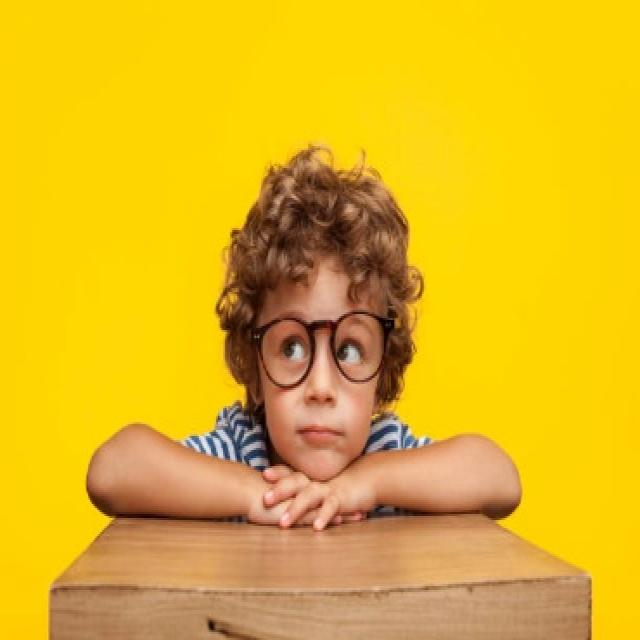child: (83, 138, 534, 525)
